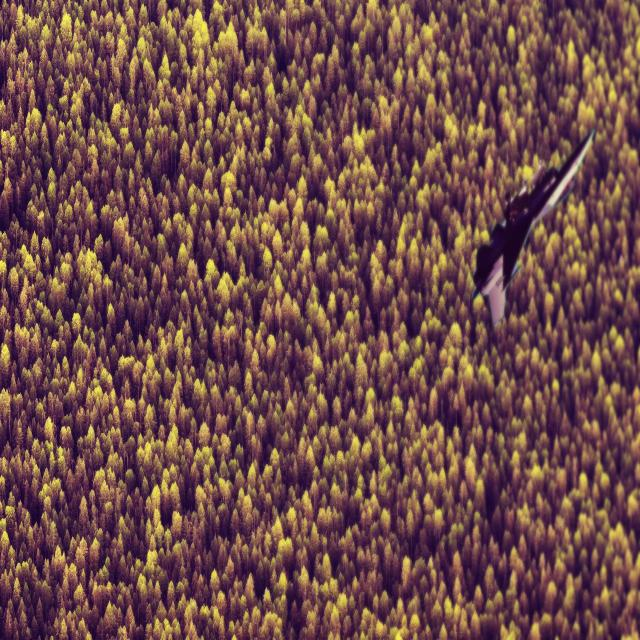airplane: (470, 126, 596, 327)
